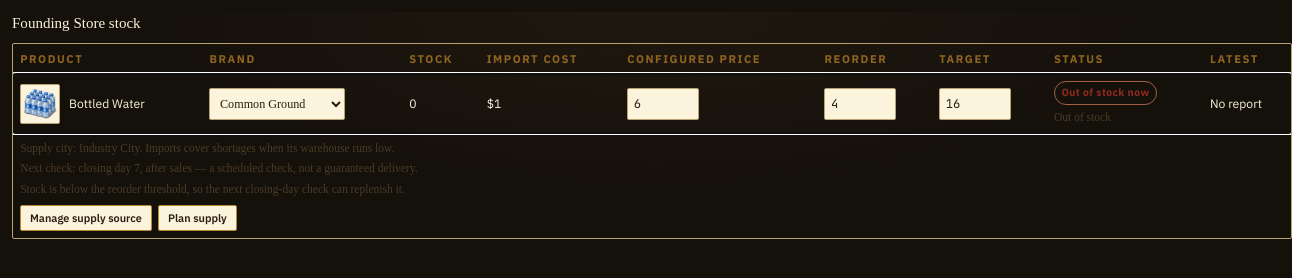
Test: StoreStockTable recovery context › gives neutral no-change text for a unchanged result
This screenshot has width=1292, height=278.
Replace the text in the number field named "Reorder threshold for Bottled Water" with "8". click: (860, 104)
box: x1=824 y1=88 x2=896 y2=120
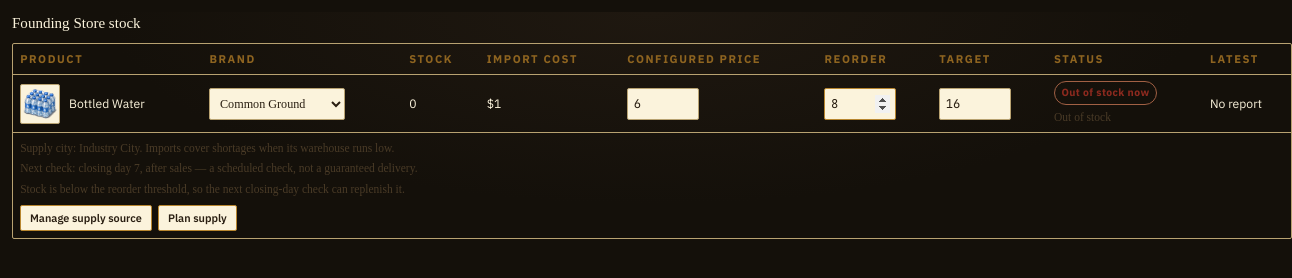
Click the cell "Bottled Water". click: (108, 104)
box: x1=13 y1=74 x2=202 y2=133
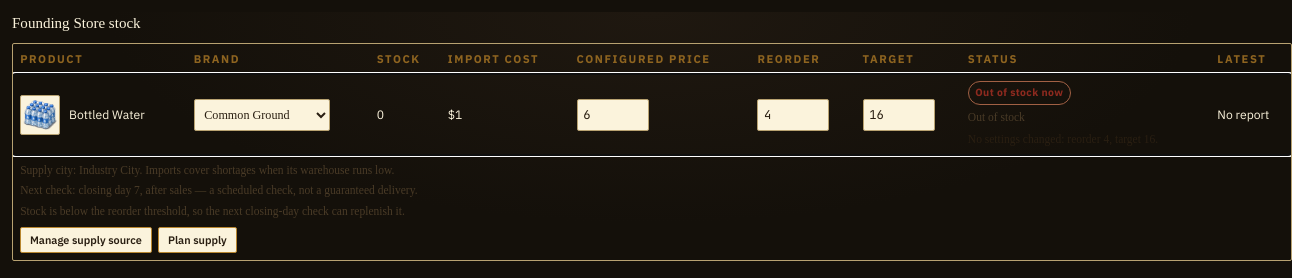
Result: the number field named "Reorder threshold for Bottled Water" holds "4" at x1=757 y1=99 x2=829 y2=131
